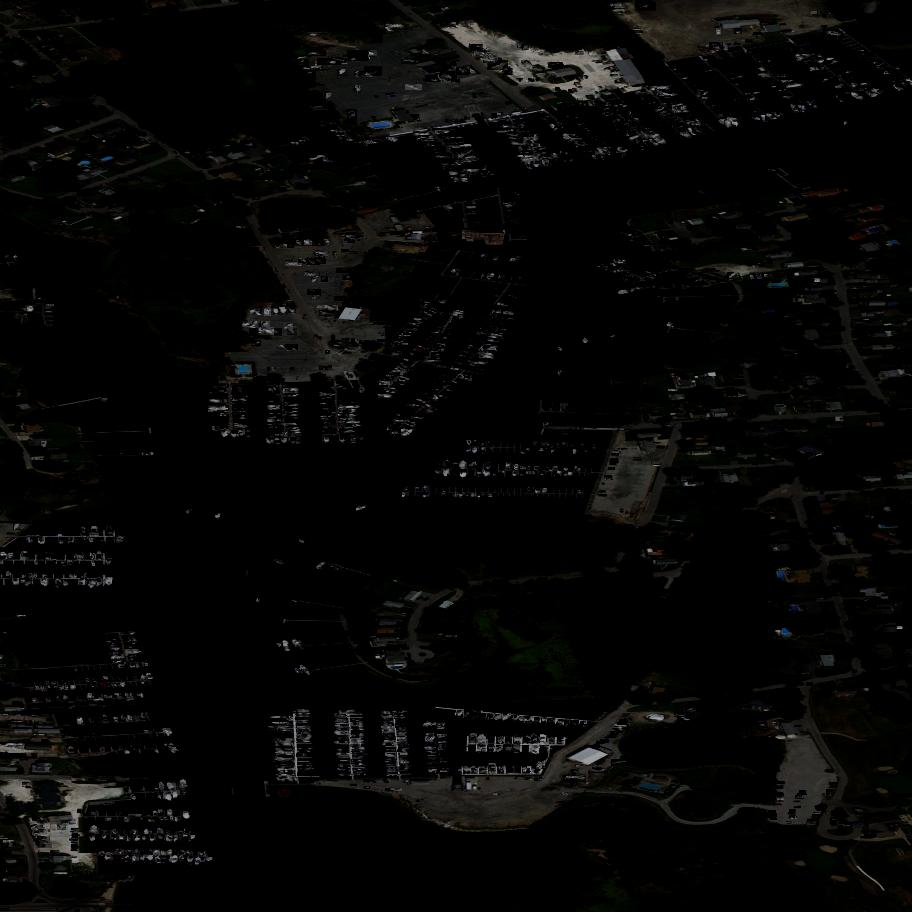ship: (454, 304, 521, 380), (557, 102, 617, 154), (384, 303, 442, 355), (420, 721, 453, 776), (521, 442, 606, 456), (463, 230, 506, 246), (656, 89, 681, 102), (347, 49, 369, 63), (456, 148, 477, 162), (833, 90, 848, 109), (806, 97, 821, 114), (489, 59, 508, 72), (268, 723, 292, 733), (865, 86, 881, 101), (672, 103, 690, 116), (356, 49, 377, 60), (339, 411, 362, 421), (338, 418, 361, 428), (766, 111, 781, 126), (393, 425, 407, 441), (849, 90, 865, 104), (790, 101, 804, 117), (727, 114, 741, 130), (718, 118, 735, 131), (472, 169, 494, 179), (306, 154, 327, 164), (339, 428, 360, 438), (297, 70, 316, 81), (295, 56, 308, 72), (365, 65, 382, 77), (338, 397, 358, 407), (273, 733, 295, 742), (273, 748, 295, 757), (461, 158, 483, 167), (445, 165, 463, 176), (354, 503, 369, 516), (259, 325, 274, 338), (441, 69, 457, 81), (317, 58, 341, 66), (806, 44, 822, 56), (275, 770, 296, 779), (339, 415, 360, 424), (340, 421, 363, 429), (339, 407, 359, 416), (596, 145, 611, 157), (825, 60, 843, 70), (273, 557, 289, 568), (458, 373, 474, 384), (338, 405, 363, 412), (638, 2, 657, 11), (457, 65, 470, 78), (641, 137, 654, 150), (115, 530, 127, 544), (649, 135, 661, 149), (472, 50, 493, 58), (693, 125, 707, 137), (436, 375, 451, 386), (401, 428, 416, 439), (435, 72, 450, 83), (573, 140, 588, 151), (870, 85, 885, 96), (677, 129, 692, 140), (285, 424, 303, 433), (819, 56, 837, 65), (240, 139, 256, 149), (434, 394, 450, 404), (525, 134, 541, 144), (668, 103, 688, 111), (685, 117, 701, 127), (840, 70, 856, 80), (822, 75, 838, 85), (170, 789, 182, 802), (338, 709, 360, 716), (634, 140, 648, 151), (890, 82, 904, 93), (797, 103, 811, 114), (121, 629, 138, 638), (212, 419, 229, 428), (430, 146, 447, 155), (730, 75, 747, 84), (730, 94, 747, 103), (298, 746, 317, 754), (283, 412, 302, 420), (384, 426, 399, 436), (563, 133, 578, 143), (464, 163, 485, 170), (338, 401, 359, 408), (822, 32, 843, 39), (353, 751, 369, 760), (125, 643, 141, 652), (406, 83, 422, 92), (322, 305, 338, 314), (451, 173, 469, 181), (479, 353, 497, 361), (87, 578, 98, 591), (760, 114, 773, 125), (275, 775, 295, 782), (426, 74, 440, 84), (306, 50, 326, 57), (432, 154, 452, 161), (655, 135, 669, 145), (797, 54, 811, 64), (300, 767, 317, 775), (521, 156, 538, 164), (393, 708, 410, 716), (319, 413, 336, 421), (267, 425, 284, 433), (479, 350, 496, 358), (425, 403, 440, 412), (617, 146, 632, 155), (277, 768, 296, 775), (297, 749, 316, 756), (274, 756, 293, 763), (495, 302, 514, 309), (506, 289, 525, 296), (208, 406, 227, 413), (564, 776, 586, 782), (163, 791, 174, 803), (270, 326, 281, 338), (347, 109, 358, 121), (371, 35, 383, 46), (650, 87, 672, 93), (611, 148, 623, 159), (686, 126, 698, 137), (104, 553, 114, 566), (249, 327, 262, 337), (402, 407, 415, 417), (31, 823, 44, 833), (776, 109, 786, 122), (125, 640, 141, 648), (266, 402, 282, 410), (450, 381, 466, 389), (677, 715, 691, 724), (209, 398, 227, 405), (232, 408, 250, 415), (339, 426, 360, 432), (445, 141, 466, 147), (319, 309, 337, 316), (654, 107, 668, 116), (896, 81, 910, 90), (631, 118, 645, 127), (103, 854, 114, 865), (351, 722, 366, 730), (472, 710, 482, 722), (405, 420, 420, 428), (751, 115, 763, 125), (481, 347, 501, 353), (576, 102, 600, 107), (504, 207, 521, 214), (320, 420, 337, 427), (283, 388, 300, 395), (435, 130, 452, 137), (417, 135, 434, 142), (660, 96, 677, 103), (787, 83, 804, 90), (394, 380, 407, 389), (307, 257, 320, 266), (665, 114, 678, 123), (709, 42, 722, 51), (274, 742, 293, 748), (611, 760, 630, 766), (351, 746, 367, 753), (297, 731, 313, 738), (531, 144, 545, 152), (470, 175, 498, 179), (105, 634, 119, 642), (414, 398, 428, 406), (437, 393, 453, 400), (403, 424, 419, 431), (422, 299, 438, 306), (619, 232, 635, 239), (36, 838, 50, 846), (38, 841, 52, 849), (500, 316, 516, 323), (549, 122, 563, 130), (290, 638, 301, 648), (442, 460, 452, 471), (557, 367, 567, 378), (467, 167, 489, 172), (90, 824, 100, 835), (252, 339, 263, 349), (384, 25, 406, 30), (315, 255, 326, 265), (487, 241, 509, 246), (494, 129, 516, 134), (316, 562, 328, 571), (567, 154, 576, 166), (232, 402, 250, 408), (286, 343, 298, 352), (285, 428, 303, 434), (261, 320, 270, 332), (443, 164, 461, 170), (772, 83, 784, 92), (589, 154, 601, 163), (336, 746, 351, 753), (233, 420, 248, 427), (267, 411, 282, 418), (420, 142, 441, 147), (626, 118, 641, 125), (395, 712, 408, 720), (351, 730, 368, 736), (276, 727, 293, 733), (298, 734, 315, 740), (106, 650, 123, 656), (125, 651, 142, 657), (274, 739, 294, 744), (495, 273, 505, 283), (251, 320, 261, 330), (287, 326, 297, 336), (315, 238, 325, 248), (294, 239, 304, 249), (482, 297, 493, 306), (487, 272, 496, 283), (478, 733, 487, 744), (170, 855, 179, 866), (279, 305, 288, 316), (315, 252, 326, 261), (460, 19, 471, 28), (597, 153, 608, 162), (630, 135, 641, 144), (351, 739, 365, 746), (108, 644, 122, 651), (111, 655, 125, 662), (395, 413, 409, 420), (697, 92, 711, 99), (883, 69, 897, 76), (351, 760, 367, 766), (333, 730, 349, 736), (298, 727, 314, 733), (105, 576, 113, 588), (85, 723, 101, 729), (128, 655, 144, 661), (113, 658, 125, 666), (318, 397, 334, 403), (343, 274, 355, 282), (713, 107, 725, 115), (585, 147, 597, 155), (505, 134, 521, 140), (610, 4, 626, 10), (759, 58, 775, 64), (355, 72, 374, 77), (483, 58, 502, 63), (443, 137, 466, 141), (335, 719, 348, 726), (308, 289, 321, 296), (626, 237, 639, 244), (673, 124, 686, 131), (466, 346, 479, 353), (553, 126, 566, 133), (303, 668, 312, 678), (459, 469, 468, 479), (297, 723, 312, 729), (560, 155, 569, 165), (517, 715, 526, 725), (502, 713, 511, 723), (522, 735, 531, 745), (503, 744, 512, 754), (470, 733, 479, 743), (164, 727, 174, 736), (66, 745, 76, 754), (168, 781, 177, 791), (222, 429, 231, 439), (296, 436, 306, 445), (285, 322, 294, 332), (339, 68, 348, 78), (153, 856, 163, 865), (195, 856, 204, 866), (304, 271, 319, 277), (650, 101, 660, 110), (614, 117, 623, 127), (514, 121, 529, 127), (480, 56, 498, 61), (553, 155, 561, 166), (465, 709, 473, 720), (514, 734, 522, 745), (487, 711, 495, 722), (397, 364, 408, 372), (686, 706, 697, 714), (516, 151, 533, 156), (285, 261, 302, 266), (474, 361, 491, 366), (337, 750, 351, 756), (398, 362, 410, 369), (297, 720, 311, 726), (452, 145, 473, 149), (502, 191, 516, 197), (395, 723, 409, 729), (398, 738, 410, 745), (235, 424, 249, 430), (267, 406, 281, 412), (384, 390, 398, 396), (401, 59, 415, 65), (332, 57, 346, 63), (455, 288, 469, 294), (667, 120, 681, 126), (483, 470, 492, 479), (548, 718, 557, 727), (495, 735, 504, 744), (530, 745, 539, 754), (7, 551, 16, 560), (40, 578, 49, 587), (349, 435, 358, 444), (324, 91, 333, 100), (304, 238, 313, 247), (805, 401, 814, 410), (656, 295, 665, 304), (615, 121, 624, 130), (434, 468, 442, 478), (334, 727, 350, 732), (186, 507, 194, 517), (318, 401, 334, 406), (320, 408, 336, 413), (283, 393, 299, 398), (285, 410, 301, 415), (340, 434, 348, 444), (509, 242, 525, 247), (637, 127, 653, 132), (858, 53, 874, 58), (334, 713, 347, 719), (397, 732, 410, 738), (232, 413, 245, 419), (410, 367, 423, 373), (269, 429, 282, 435), (379, 393, 392, 399), (398, 380, 411, 386), (399, 376, 412, 382), (522, 133, 535, 139), (550, 63, 563, 69), (684, 116, 697, 122), (617, 105, 630, 111), (766, 63, 779, 69), (395, 367, 406, 374), (392, 369, 403, 376), (379, 380, 390, 387), (207, 851, 214, 862), (589, 768, 608, 772), (341, 57, 360, 61), (298, 772, 313, 777), (352, 733, 367, 738), (297, 739, 312, 744), (297, 754, 312, 759), (123, 638, 138, 643), (32, 830, 47, 835), (109, 675, 117, 684), (91, 676, 99, 685), (299, 536, 308, 544), (295, 717, 313, 721), (460, 461, 468, 470), (452, 469, 460, 478), (490, 470, 499, 478), (516, 155, 534, 159), (457, 709, 465, 718), (383, 729, 395, 735), (463, 765, 472, 773), (478, 744, 486, 753), (25, 578, 33, 587), (214, 512, 222, 521), (126, 714, 134, 723), (179, 780, 188, 788), (117, 834, 125, 843), (376, 387, 385, 395), (113, 855, 121, 864), (334, 296, 346, 302), (323, 238, 332, 246), (730, 272, 739, 280), (647, 100, 659, 106), (658, 111, 670, 117), (581, 126, 593, 132), (562, 107, 571, 115), (870, 61, 882, 67), (787, 46, 799, 52), (856, 49, 868, 55), (324, 424, 336, 430), (441, 373, 455, 378), (109, 647, 123, 652), (214, 418, 228, 423), (267, 392, 281, 397), (275, 436, 282, 446), (455, 178, 469, 183), (664, 113, 674, 120), (495, 327, 509, 332), (496, 323, 510, 328), (284, 407, 301, 411), (285, 416, 302, 420), (400, 764, 411, 770), (501, 194, 523, 197), (425, 721, 436, 727), (437, 733, 448, 739), (423, 339, 434, 345), (598, 105, 609, 111), (876, 63, 887, 69), (125, 697, 138, 702), (351, 720, 364, 725), (382, 743, 395, 748), (383, 736, 396, 741), (106, 638, 119, 643), (324, 427, 337, 432), (267, 423, 280, 428), (266, 389, 279, 394), (290, 432, 303, 437), (561, 133, 574, 138), (147, 848, 155, 856), (572, 720, 580, 728), (510, 715, 518, 723), (431, 400, 447, 404), (187, 856, 195, 864), (337, 268, 353, 272), (449, 172, 465, 176), (750, 273, 758, 281), (505, 69, 513, 77), (490, 333, 506, 337), (746, 92, 762, 96), (510, 142, 526, 146), (96, 833, 103, 842), (485, 461, 492, 470), (532, 161, 541, 168), (542, 160, 549, 169), (531, 734, 538, 743), (95, 579, 102, 588), (90, 527, 99, 534), (131, 793, 138, 802), (170, 743, 177, 752), (159, 781, 166, 790), (14, 254, 21, 263), (359, 434, 366, 443), (265, 307, 272, 316), (627, 276, 636, 283), (607, 113, 616, 120), (350, 744, 365, 748), (271, 716, 291, 719), (337, 737, 349, 742), (508, 219, 520, 224), (435, 346, 445, 352), (435, 344, 447, 349), (395, 720, 407, 725), (381, 727, 393, 732), (385, 752, 397, 757), (421, 344, 433, 349), (480, 764, 486, 774), (89, 732, 101, 737), (234, 406, 246, 411), (268, 416, 283, 420), (277, 345, 289, 350), (433, 383, 443, 389), (384, 376, 394, 382), (394, 417, 406, 422), (453, 310, 465, 315), (346, 232, 356, 238), (345, 239, 355, 245), (527, 139, 542, 143), (504, 311, 514, 317), (37, 836, 47, 842), (704, 68, 714, 74), (669, 102, 679, 108), (761, 260, 773, 265), (494, 329, 506, 334), (468, 364, 488, 367), (507, 138, 522, 142), (294, 709, 313, 712), (86, 677, 93, 685), (277, 641, 284, 649), (452, 461, 459, 469), (403, 485, 410, 493), (140, 849, 148, 856), (543, 401, 551, 408), (541, 735, 548, 743), (494, 714, 502, 721), (471, 766, 478, 774), (21, 551, 29, 558), (11, 579, 19, 586), (105, 642, 119, 646), (96, 551, 103, 559), (113, 715, 120, 723), (183, 811, 190, 819), (239, 429, 246, 437), (232, 390, 246, 394), (5, 255, 13, 262), (324, 436, 331, 444), (179, 855, 186, 863), (522, 43, 529, 51), (810, 67, 824, 71), (337, 767, 348, 772), (417, 351, 428, 356), (398, 742, 409, 747), (399, 736, 410, 741), (770, 82, 781, 87), (707, 100, 718, 105), (469, 344, 480, 349), (448, 367, 459, 372), (298, 762, 316, 765), (274, 721, 292, 724), (107, 526, 113, 535), (232, 397, 250, 400), (317, 392, 335, 395), (316, 62, 334, 65), (621, 109, 630, 115), (789, 96, 798, 102), (779, 89, 788, 95), (836, 84, 845, 90), (336, 744, 349, 748), (429, 356, 442, 360), (382, 724, 395, 728), (383, 749, 396, 753), (412, 417, 425, 421), (488, 339, 501, 343), (277, 766, 294, 769), (503, 202, 520, 205), (444, 390, 461, 393), (644, 134, 661, 137), (399, 754, 409, 759), (398, 727, 408, 732), (268, 400, 278, 405), (339, 233, 349, 238), (290, 599, 300, 604), (440, 163, 450, 168), (520, 125, 530, 130), (439, 766, 449, 771), (437, 730, 447, 735), (596, 136, 606, 141), (592, 135, 602, 140), (644, 98, 654, 103), (464, 350, 474, 355), (282, 640, 289, 647), (416, 492, 423, 499), (154, 849, 161, 856), (526, 465, 533, 472), (540, 464, 547, 471), (489, 764, 496, 771), (507, 766, 514, 773), (59, 538, 66, 545), (139, 713, 146, 720), (126, 749, 133, 756), (140, 855, 147, 862), (289, 306, 296, 313), (611, 262, 618, 269), (536, 762, 543, 769), (764, 273, 771, 280), (503, 66, 510, 73), (592, 99, 599, 106), (337, 764, 349, 768), (398, 768, 410, 772), (436, 461, 442, 469), (562, 472, 570, 478), (382, 721, 394, 725), (322, 160, 334, 164), (613, 725, 629, 728), (56, 579, 62, 587), (19, 579, 27, 585), (102, 715, 110, 721), (147, 674, 155, 680), (283, 437, 289, 445), (290, 437, 296, 445), (414, 133, 430, 136), (133, 855, 139, 863), (322, 275, 328, 283), (618, 260, 626, 266), (689, 122, 705, 125), (634, 126, 646, 130), (442, 337, 454, 341), (453, 196, 461, 202), (386, 773, 395, 778), (516, 148, 531, 151), (493, 257, 502, 262), (233, 419, 248, 422), (243, 322, 252, 327), (438, 723, 447, 728), (427, 757, 436, 762), (335, 718, 346, 722), (421, 345, 432, 349), (583, 129, 594, 133), (613, 9, 624, 13), (672, 123, 683, 127), (462, 355, 473, 359), (130, 816, 137, 822), (90, 817, 96, 824), (154, 749, 161, 755), (152, 810, 158, 817), (294, 668, 301, 674), (465, 440, 472, 446), (513, 470, 519, 477), (519, 471, 526, 477), (552, 152, 559, 158), (506, 294, 520, 297), (511, 275, 518, 281), (549, 737, 555, 744), (523, 767, 529, 774), (496, 745, 502, 752), (64, 580, 70, 587), (51, 552, 57, 559), (83, 536, 90, 542), (88, 835, 95, 841), (166, 835, 172, 842), (150, 835, 156, 842), (143, 835, 149, 842), (145, 661, 151, 668), (27, 306, 34, 312), (267, 419, 281, 422), (274, 307, 280, 314), (755, 273, 761, 280), (490, 336, 504, 339), (562, 442, 569, 448), (622, 113, 636, 116), (641, 131, 655, 134), (6, 571, 12, 578), (356, 771, 366, 775), (299, 665, 307, 670), (404, 359, 414, 363), (452, 295, 462, 299), (383, 717, 393, 721), (192, 832, 197, 840), (390, 373, 400, 377), (163, 856, 168, 864), (42, 824, 50, 829), (423, 724, 433, 728), (439, 762, 449, 766), (592, 767, 602, 771), (614, 104, 624, 108), (633, 28, 643, 32), (473, 338, 481, 343), (486, 319, 494, 324), (458, 359, 468, 363), (602, 108, 612, 112), (742, 51, 752, 55), (402, 340, 410, 345), (384, 759, 397, 762), (384, 761, 397, 764), (335, 724, 348, 727), (506, 215, 519, 218), (452, 318, 465, 321), (298, 260, 311, 263), (781, 80, 794, 83), (460, 158, 479, 160), (512, 236, 531, 238), (118, 829, 124, 835), (142, 785, 148, 791), (167, 810, 173, 816), (469, 462, 475, 468), (276, 754, 294, 756), (568, 466, 574, 472), (476, 470, 482, 476), (395, 718, 407, 721), (413, 357, 425, 360), (167, 849, 173, 855), (437, 342, 446, 346), (513, 745, 519, 751), (488, 744, 494, 750), (406, 373, 418, 376), (246, 429, 252, 435), (81, 528, 87, 534), (89, 537, 95, 543), (78, 717, 84, 723), (157, 793, 163, 799), (158, 835, 164, 841), (256, 307, 262, 313), (355, 86, 361, 92), (310, 240, 316, 246), (604, 143, 613, 147), (439, 764, 448, 768), (440, 759, 449, 763), (439, 742, 448, 746), (438, 735, 447, 739), (669, 65, 678, 69), (539, 442, 545, 448), (568, 449, 574, 455), (573, 140, 582, 144), (852, 84, 870, 86), (406, 330, 415, 334), (399, 345, 408, 349), (419, 307, 428, 311), (133, 675, 140, 680), (157, 829, 164, 834), (120, 848, 125, 855), (88, 694, 95, 699), (584, 337, 589, 344), (549, 159, 554, 166), (566, 719, 571, 726), (81, 579, 86, 586), (39, 537, 44, 544), (121, 715, 126, 722), (182, 836, 189, 841), (232, 431, 237, 438), (267, 437, 272, 444), (148, 856, 155, 861), (735, 29, 742, 34), (320, 417, 337, 419), (427, 146, 444, 148), (399, 758, 410, 761), (352, 764, 363, 767), (337, 735, 348, 738), (503, 126, 514, 129), (3, 845, 14, 848), (568, 117, 579, 120), (766, 170, 777, 173), (275, 732, 291, 734), (346, 139, 354, 143), (126, 650, 142, 652), (432, 153, 448, 155), (340, 771, 348, 775), (695, 279, 703, 283), (135, 813, 143, 817), (439, 745, 447, 749), (522, 60, 530, 64), (70, 685, 76, 690), (120, 683, 125, 689), (116, 676, 121, 682), (103, 676, 109, 681), (80, 678, 85, 684), (112, 829, 118, 834), (103, 835, 109, 840), (128, 849, 133, 855), (128, 744, 134, 749), (257, 597, 262, 603), (454, 493, 460, 498), (470, 493, 476, 498), (443, 470, 449, 475), (472, 441, 478, 446), (559, 347, 565, 352), (539, 472, 545, 477), (534, 465, 539, 471), (109, 538, 115, 543), (90, 552, 95, 558), (118, 664, 124, 669), (250, 308, 255, 314), (283, 423, 298, 425), (285, 404, 300, 406), (378, 384, 388, 387), (126, 856, 131, 862), (312, 278, 318, 283), (96, 817, 101, 823), (39, 817, 45, 822), (229, 784, 235, 789), (426, 751, 436, 754), (704, 58, 710, 63), (615, 99, 621, 104), (708, 268, 714, 273), (783, 96, 793, 99), (475, 338, 485, 341), (484, 326, 494, 329), (587, 444, 592, 450), (626, 131, 636, 134), (793, 54, 808, 56), (432, 328, 442, 331), (410, 326, 420, 329), (352, 757, 366, 759), (298, 766, 312, 768), (451, 270, 458, 274), (510, 259, 517, 263), (480, 254, 487, 258), (44, 553, 51, 557), (142, 730, 156, 732), (407, 405, 421, 407), (433, 129, 447, 131), (441, 25, 455, 27), (680, 115, 694, 117), (479, 331, 486, 335), (717, 28, 721, 35), (546, 120, 555, 123), (607, 146, 616, 149), (440, 758, 449, 761), (440, 755, 449, 758), (426, 741, 435, 744), (408, 329, 417, 332), (337, 754, 350, 756), (352, 768, 365, 770), (335, 742, 348, 744), (533, 149, 546, 151), (399, 746, 412, 748), (315, 252, 328, 254), (103, 683, 108, 688), (141, 693, 146, 698), (125, 829, 130, 834), (144, 829, 149, 834), (134, 849, 139, 854), (148, 817, 153, 822), (155, 785, 160, 790), (459, 492, 464, 497), (432, 493, 437, 498), (472, 448, 477, 453), (161, 850, 166, 855), (526, 717, 531, 722), (507, 736, 512, 741), (75, 537, 80, 542), (92, 561, 97, 566), (135, 836, 140, 841), (334, 435, 339, 440), (35, 687, 41, 691), (53, 686, 59, 690), (141, 674, 145, 680), (105, 693, 109, 699), (146, 794, 152, 798), (423, 492, 427, 498), (402, 492, 406, 498), (528, 486, 532, 492), (561, 151, 565, 157), (675, 715, 687, 717), (381, 715, 393, 717), (430, 354, 442, 356), (535, 717, 539, 723), (81, 553, 85, 559), (131, 663, 135, 669), (129, 834, 133, 840), (420, 394, 432, 396), (387, 388, 399, 390), (422, 409, 434, 411), (454, 315, 466, 317), (627, 268, 633, 272), (493, 311, 501, 314), (598, 140, 606, 143), (426, 729, 434, 732), (426, 734, 434, 737), (425, 738, 433, 741), (543, 745, 549, 749), (587, 101, 595, 104), (797, 93, 803, 97), (575, 52, 583, 55), (569, 138, 581, 140), (812, 54, 824, 56), (394, 353, 400, 357), (441, 189, 447, 193), (300, 140, 311, 142), (398, 749, 409, 751), (425, 748, 436, 750), (560, 112, 571, 114), (758, 74, 769, 76), (483, 345, 494, 347), (175, 835, 178, 842), (675, 69, 682, 72), (654, 106, 661, 109), (840, 86, 847, 89), (602, 112, 609, 115), (398, 348, 405, 351), (334, 567, 341, 570), (60, 686, 64, 691), (65, 686, 70, 690), (63, 679, 68, 683), (99, 828, 103, 833), (152, 829, 157, 833), (153, 817, 157, 822), (117, 744, 122, 748), (101, 746, 106, 750), (417, 486, 421, 491), (424, 486, 429, 490), (465, 448, 470, 452), (481, 442, 485, 447), (526, 471, 531, 475), (554, 467, 559, 471), (542, 488, 547, 492), (507, 463, 511, 468), (515, 465, 520, 469), (467, 211, 477, 213), (179, 849, 184, 853), (384, 740, 394, 742), (499, 766, 504, 770), (124, 663, 129, 667), (426, 227, 436, 229), (346, 235, 356, 237), (276, 243, 280, 248), (518, 125, 528, 127), (107, 818, 112, 822), (119, 817, 124, 821), (425, 727, 435, 729), (600, 142, 610, 144), (739, 276, 744, 280), (860, 87, 870, 89), (519, 43, 523, 48), (761, 77, 771, 79), (845, 122, 849, 127), (666, 323, 671, 327), (690, 710, 700, 712), (521, 450, 526, 454), (533, 442, 538, 446), (573, 449, 577, 454), (570, 443, 574, 448), (545, 421, 550, 425), (432, 326, 442, 328), (17, 572, 22, 576), (23, 574, 27, 579), (32, 572, 36, 577), (283, 397, 302, 398), (388, 768, 397, 770), (559, 738, 562, 744), (68, 538, 71, 544), (75, 554, 78, 560), (382, 379, 391, 381), (386, 374, 395, 376), (656, 274, 665, 276), (117, 812, 123, 815), (426, 736, 435, 738), (440, 770, 449, 772), (579, 104, 585, 107), (487, 318, 496, 320), (431, 331, 440, 333), (110, 684, 114, 688), (48, 686, 52, 690), (114, 683, 118, 687), (105, 829, 109, 833), (166, 830, 170, 834), (164, 743, 168, 747), (245, 571, 249, 575), (443, 492, 447, 496), (274, 762, 290, 763), (564, 467, 568, 471), (581, 468, 585, 472), (433, 350, 441, 352), (401, 753, 409, 755), (543, 718, 547, 722), (52, 561, 56, 565), (62, 560, 66, 564), (136, 664, 140, 668), (506, 223, 522, 224), (438, 727, 446, 729), (164, 816, 168, 820), (439, 741, 447, 743), (174, 850, 178, 854), (642, 97, 650, 99), (602, 102, 606, 106), (789, 101, 797, 103), (402, 344, 410, 346), (404, 335, 412, 337), (44, 573, 48, 577), (111, 835, 114, 840), (159, 809, 162, 814), (175, 817, 178, 822), (465, 494, 470, 497), (586, 473, 591, 476), (514, 146, 529, 147), (482, 274, 485, 279), (194, 850, 197, 855), (559, 719, 562, 724), (505, 230, 510, 233), (125, 817, 128, 822), (32, 817, 37, 820), (181, 791, 186, 794), (769, 274, 774, 277), (751, 98, 756, 101), (739, 101, 744, 104), (522, 442, 525, 447), (546, 443, 551, 446), (552, 443, 555, 448), (594, 444, 597, 449), (388, 756, 395, 758), (297, 714, 311, 715), (427, 361, 441, 362), (121, 636, 135, 637), (422, 139, 436, 140), (534, 113, 541, 115), (557, 423, 564, 425), (279, 781, 286, 783), (426, 746, 433, 748), (759, 263, 766, 265), (485, 342, 499, 343), (275, 747, 288, 748), (233, 400, 246, 401), (319, 395, 332, 396), (530, 144, 543, 145), (695, 91, 708, 92), (677, 112, 690, 113), (578, 146, 591, 147), (42, 687, 46, 690), (133, 829, 137, 832), (178, 830, 181, 834), (68, 696, 71, 700), (353, 728, 365, 729), (553, 472, 557, 475), (569, 473, 573, 476), (481, 448, 485, 451), (533, 472, 537, 475), (477, 493, 481, 496), (483, 493, 486, 497), (521, 466, 524, 470), (547, 466, 551, 469), (187, 851, 191, 854), (102, 812, 106, 815), (532, 769, 536, 772), (430, 759, 436, 761), (427, 743, 433, 745), (703, 97, 709, 99), (576, 118, 582, 120), (525, 163, 531, 165), (546, 449, 549, 453), (585, 450, 588, 454), (776, 74, 788, 75), (35, 561, 39, 564), (25, 562, 29, 565), (337, 761, 348, 762), (639, 94, 650, 95), (711, 105, 722, 106), (401, 761, 411, 762), (488, 493, 493, 495), (536, 488, 538, 493), (290, 143, 300, 144), (383, 735, 393, 736), (345, 239, 355, 240), (438, 749, 448, 750), (427, 766, 437, 767), (760, 274, 765, 276), (592, 134, 602, 135), (566, 116, 576, 117), (557, 443, 559, 448), (143, 682, 146, 685), (98, 694, 101, 697), (125, 693, 128, 696), (558, 471, 561, 474), (69, 560, 72, 563), (101, 537, 104, 540), (422, 305, 431, 306), (467, 207, 476, 208), (360, 390, 363, 393), (91, 812, 94, 815), (171, 817, 174, 820), (458, 769, 461, 772), (580, 124, 589, 125), (614, 12, 623, 13), (540, 449, 543, 452), (438, 300, 447, 301), (186, 829, 188, 833), (115, 694, 119, 696), (464, 376, 472, 377), (585, 723, 589, 725), (58, 561, 60, 565), (240, 416, 248, 417), (438, 723, 446, 724), (96, 811, 100, 813), (173, 812, 175, 816), (429, 770, 437, 771), (427, 763, 435, 764), (843, 91, 851, 92), (527, 449, 531, 451), (482, 329, 490, 330), (412, 323, 420, 324), (396, 351, 404, 352), (28, 573, 32, 575), (434, 187, 442, 188), (3, 843, 10, 844), (429, 772, 436, 773), (723, 113, 730, 114), (477, 334, 484, 335), (415, 319, 422, 320), (93, 685, 95, 688), (361, 773, 364, 775), (486, 258, 488, 261), (472, 255, 474, 258), (103, 818, 105, 821), (8, 841, 14, 842), (583, 102, 586, 104), (552, 450, 554, 453), (582, 444, 585, 446), (406, 334, 412, 335), (403, 337, 408, 338), (406, 339, 411, 340), (120, 694, 122, 696), (540, 746, 542, 748), (539, 750, 541, 752), (471, 209, 475, 210), (557, 449, 559, 451), (474, 201, 477, 202), (576, 467, 577, 469), (548, 117, 550, 118), (141, 819, 143, 820), (352, 752, 357, 752), (350, 738, 352, 738), (503, 206, 519, 206), (267, 396, 280, 396), (465, 205, 477, 205), (522, 132, 530, 132), (669, 390, 679, 390), (439, 730, 447, 730), (431, 768, 438, 768), (431, 756, 436, 756), (578, 123, 585, 123), (636, 32, 642, 32), (488, 322, 489, 322), (492, 314, 496, 314), (418, 313, 421, 313)
small-vehicle: (57, 823, 66, 832), (88, 778, 98, 783), (568, 88, 575, 95), (571, 769, 579, 775), (604, 477, 613, 482), (600, 739, 609, 744), (394, 788, 403, 793), (815, 805, 824, 810), (807, 821, 816, 826), (70, 818, 76, 825), (528, 77, 535, 83), (385, 787, 393, 792), (656, 445, 665, 449), (811, 818, 820, 822), (830, 818, 839, 822), (492, 112, 498, 118), (746, 39, 752, 45), (806, 682, 813, 687), (614, 728, 622, 732), (71, 830, 79, 834), (817, 808, 825, 812), (611, 731, 617, 736), (852, 669, 858, 674), (590, 94, 595, 100), (663, 425, 670, 429), (71, 844, 78, 848), (770, 811, 777, 815), (770, 813, 777, 817), (424, 78, 431, 82), (22, 783, 29, 787), (607, 735, 616, 738), (816, 598, 825, 601), (864, 279, 873, 282), (534, 777, 539, 782), (574, 782, 580, 786), (71, 844, 79, 847), (50, 851, 58, 854), (874, 315, 882, 318), (506, 101, 512, 105), (450, 62, 456, 66), (608, 467, 615, 470), (611, 459, 618, 462), (778, 781, 785, 784), (865, 285, 872, 288), (776, 796, 783, 799), (777, 798, 784, 801), (812, 816, 819, 819), (819, 804, 826, 807), (789, 809, 796, 812), (618, 722, 623, 726), (672, 482, 677, 486), (821, 491, 825, 496), (586, 94, 590, 99), (576, 77, 581, 81), (817, 10, 821, 15), (613, 451, 619, 454), (769, 461, 775, 464), (777, 787, 783, 790), (897, 395, 903, 398), (831, 816, 837, 819), (769, 815, 775, 818), (789, 815, 795, 818), (596, 741, 604, 743), (363, 780, 371, 782), (382, 780, 390, 782), (78, 809, 82, 813), (821, 10, 825, 14), (46, 740, 50, 744), (493, 793, 498, 796), (622, 448, 627, 451), (72, 833, 77, 836), (72, 841, 77, 844), (860, 305, 865, 308), (796, 795, 801, 798), (787, 823, 792, 826), (71, 828, 78, 830), (812, 814, 819, 816), (786, 821, 793, 823), (820, 25, 827, 27), (357, 236, 364, 238), (391, 788, 397, 790), (803, 707, 807, 710), (817, 343, 820, 347), (851, 306, 857, 308), (809, 341, 813, 344), (832, 823, 836, 826), (827, 14, 833, 16), (734, 43, 740, 45), (750, 25, 754, 28), (811, 12, 817, 14), (350, 251, 356, 253), (594, 744, 599, 746), (370, 779, 375, 781), (730, 413, 735, 415), (555, 88, 560, 90), (843, 23, 848, 25), (731, 43, 736, 45), (625, 86, 630, 88), (42, 740, 47, 742), (838, 299, 841, 302), (407, 780, 409, 784), (734, 415, 738, 417), (806, 313, 814, 314), (774, 804, 782, 805), (789, 811, 793, 813), (499, 113, 503, 115), (610, 75, 618, 76), (73, 776, 80, 777), (776, 784, 783, 785), (777, 801, 784, 802), (826, 790, 833, 791), (798, 794, 805, 795), (770, 819, 777, 820), (22, 782, 29, 783), (351, 784, 357, 785), (636, 458, 642, 459), (810, 453, 812, 456), (781, 532, 787, 533), (855, 286, 861, 287), (808, 821, 814, 822), (824, 793, 830, 794), (795, 801, 801, 802), (789, 813, 795, 814), (822, 14, 825, 16), (617, 732, 622, 733), (622, 719, 627, 720), (653, 465, 658, 466), (612, 454, 617, 455), (103, 780, 108, 781), (827, 791, 832, 792), (795, 807, 800, 808), (800, 791, 805, 792), (830, 786, 835, 787), (517, 79, 522, 80), (757, 33, 762, 34), (624, 720, 628, 721), (365, 787, 369, 788), (668, 222, 672, 223), (497, 114, 501, 115), (573, 89, 577, 90), (576, 79, 580, 80), (602, 491, 605, 492), (571, 784, 574, 785), (27, 786, 30, 787), (72, 849, 75, 850), (764, 462, 767, 463), (881, 376, 884, 377), (576, 83, 579, 84), (536, 79, 539, 80), (345, 249, 348, 250), (487, 778, 488, 779), (584, 75, 585, 76), (605, 737, 606, 737), (612, 735, 614, 735), (623, 723, 627, 723), (603, 495, 606, 495), (609, 476, 611, 476), (603, 740, 607, 740), (563, 793, 564, 793), (77, 837, 78, 837), (70, 839, 72, 839), (77, 847, 77, 847), (758, 463, 758, 463), (835, 686, 837, 686), (798, 726, 800, 726), (782, 794, 783, 794), (889, 397, 896, 397), (860, 320, 860, 320), (831, 823, 833, 823), (798, 798, 803, 798), (830, 783, 832, 783), (796, 817, 796, 817), (755, 36, 758, 36), (728, 44, 731, 44), (451, 66, 457, 66)
